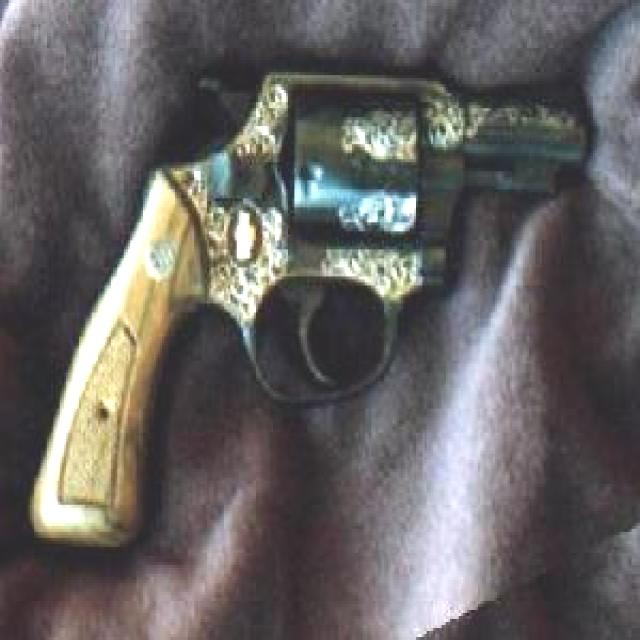pistol: (21, 63, 587, 541)
